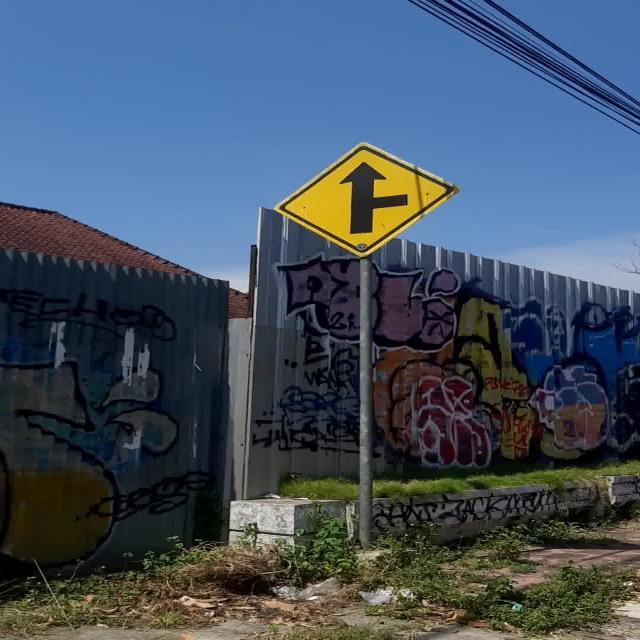Persimpangan 3 Prioritas Kanan: (274, 142, 459, 258)
